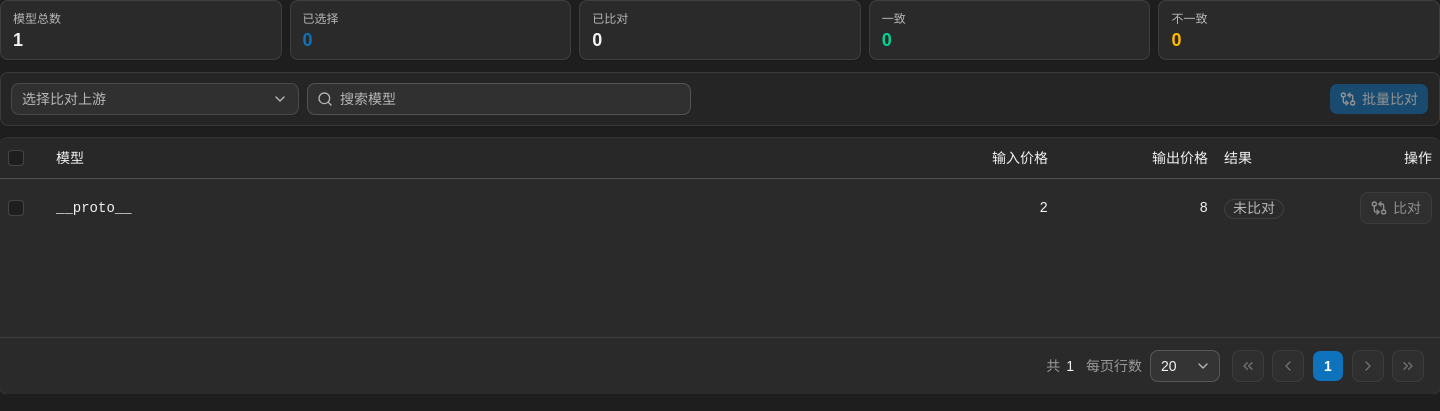
Test case: 批量比对名为__proto__的模型时正常显示匹配状态
Step 1. Click the dropdown labelled "比对上游" → (64, 99), box 11,83 -> 299,115
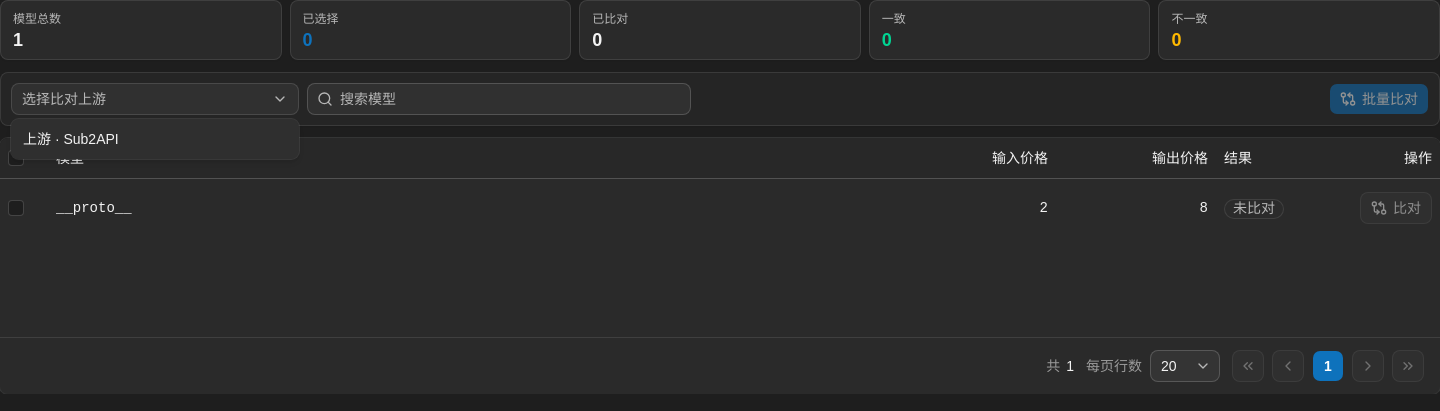
Step 2. Click the option "上游 · Sub2API" → (71, 139), box 15,123 -> 295,155
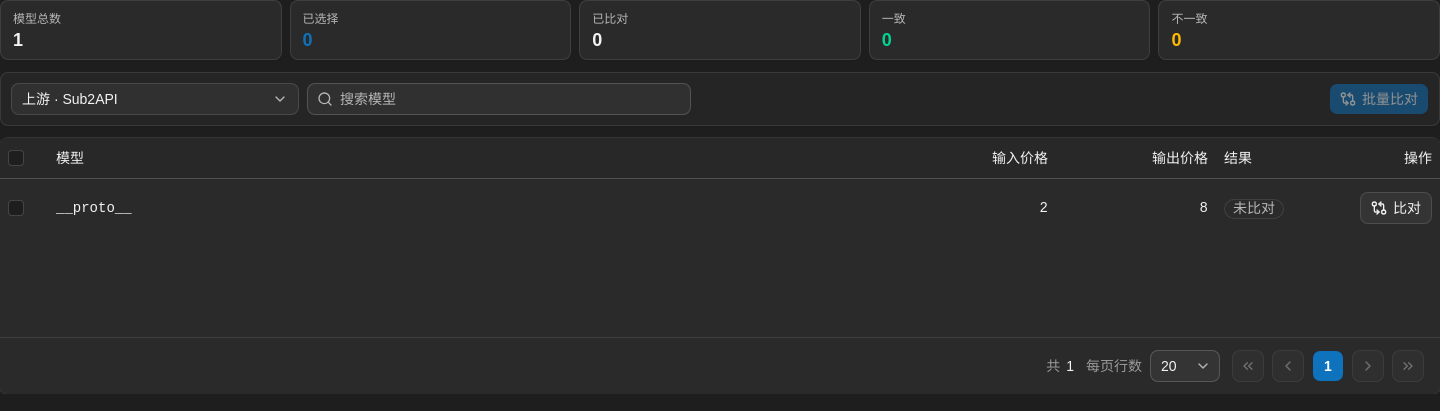
Step 3. Click the checkbox named "选择当前页全部模型" → (16, 158), box 8,150 -> 24,166
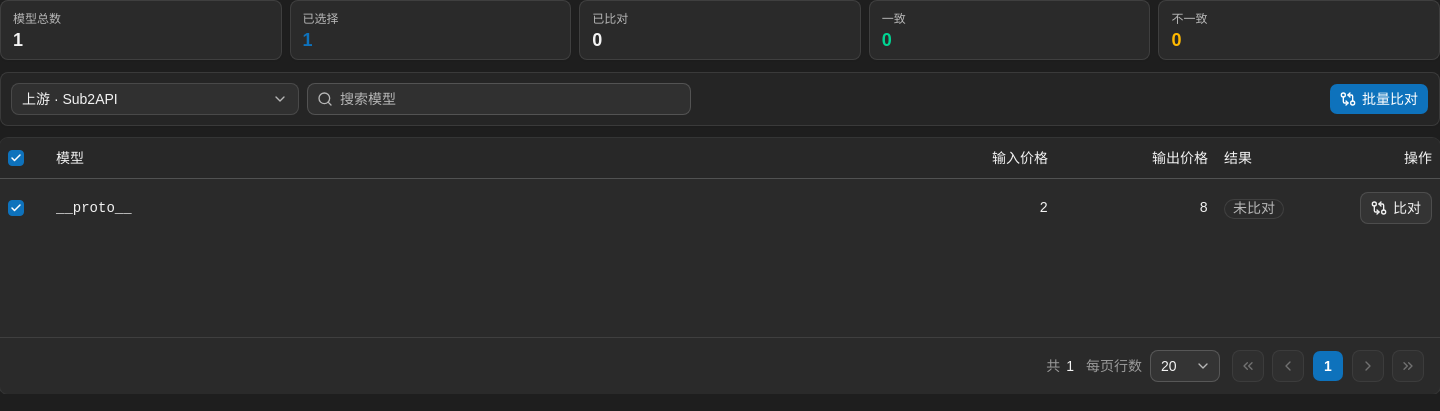
Step 4. Click the button "批量比对" → (1379, 99), box 1329,83 -> 1429,115
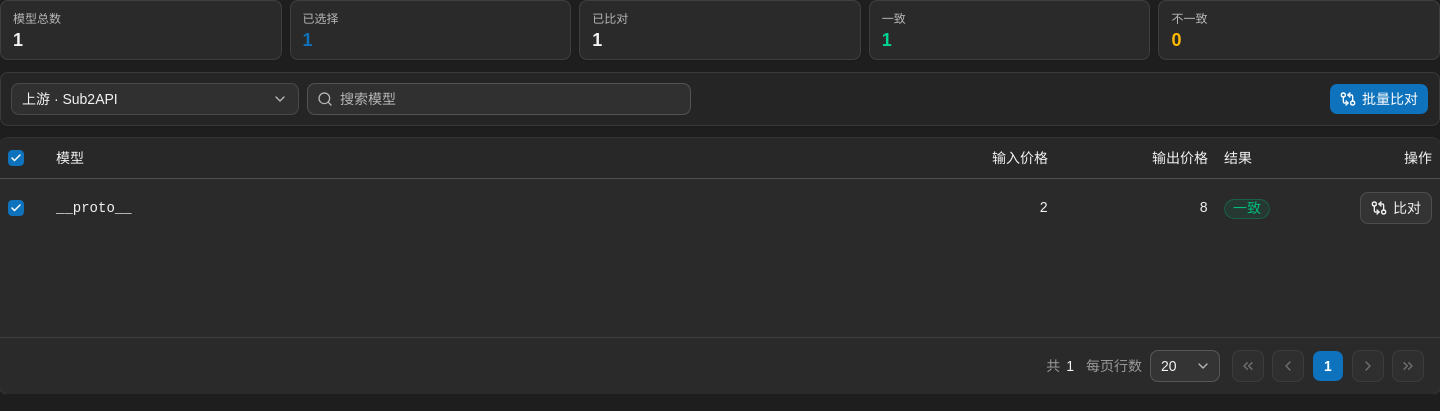
Expected: the element named "__proto__ 比对结果" reads "一致", 1233,200 -> 1261,216
